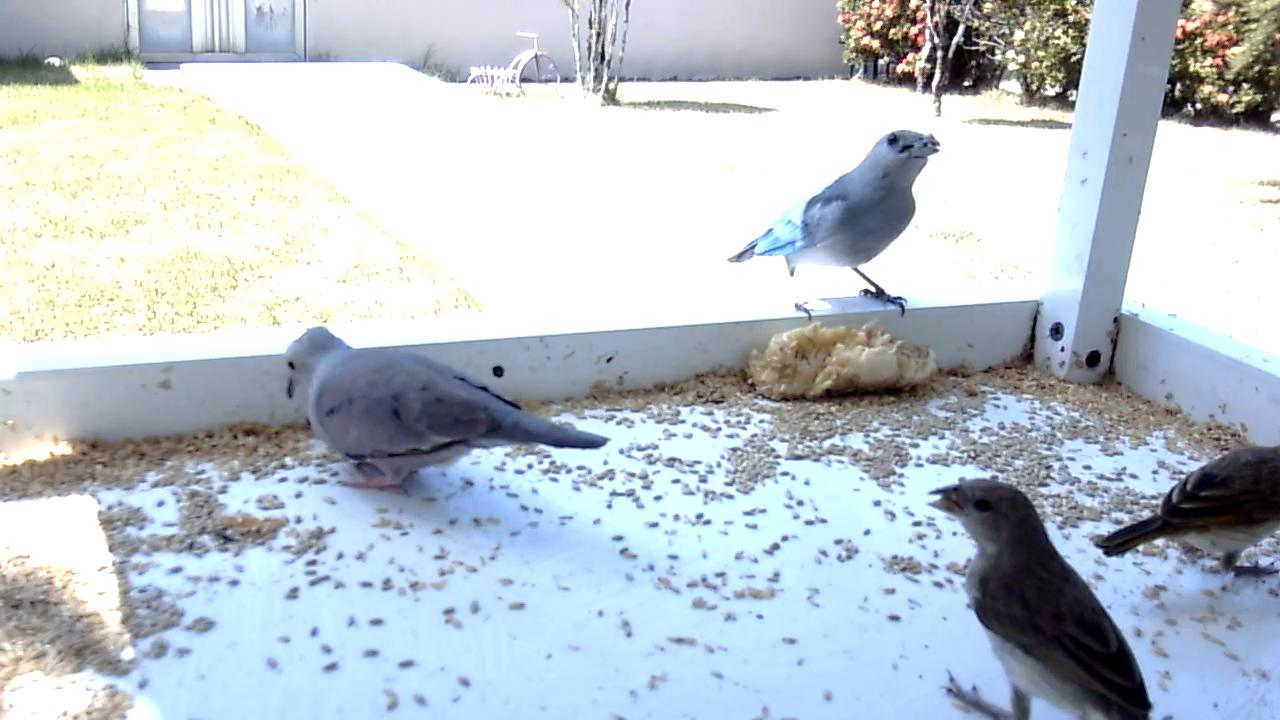canario_do_amazonas: (924, 471, 1154, 720), (1098, 440, 1280, 585)
rolinha: (271, 323, 615, 494)
sanhaco_da_amazonia: (726, 127, 945, 327)
